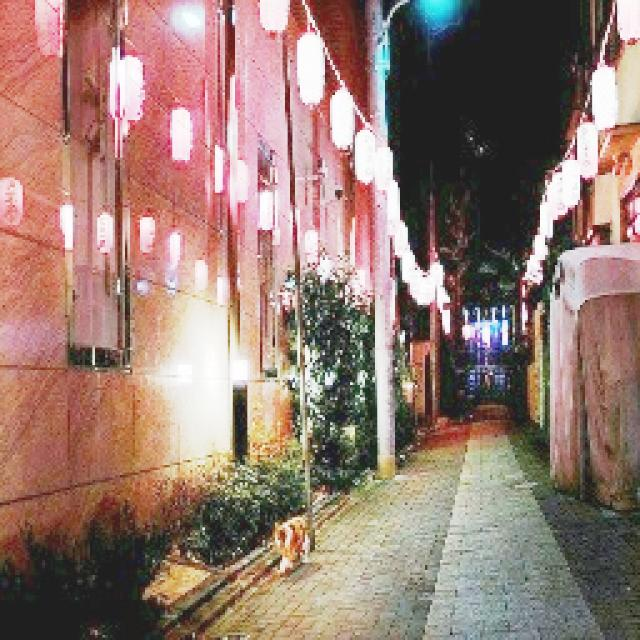cat: (264, 506, 321, 582)
